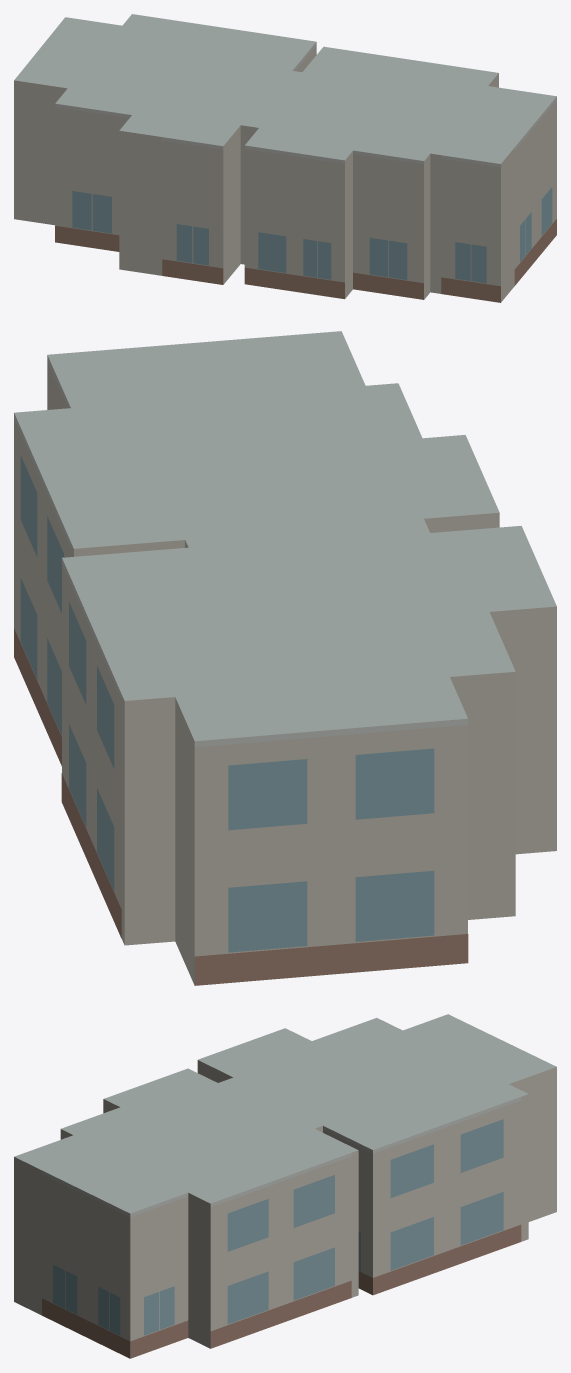
Rendered from survey-upis-32897508.glb.
3 views of the same model, one above another, from view 1: azimuth 30°, elevation 25°; view 2: azimuth 150°, elevation 25°; view 3: azimuth 270°, elevation 25° (orthographic). The views are drawn at different scales.
Visible parts, largest first — view 1: survey-upis-32897508.tmp; view 2: survey-upis-32897508.tmp; view 3: survey-upis-32897508.tmp.
Part boxes in pixels (<box>): survey-upis-32897508.tmp: <box>14,14,556,302</box>; survey-upis-32897508.tmp: <box>14,331,556,985</box>; survey-upis-32897508.tmp: <box>14,1014,556,1358</box>.
Size of the model in its own units: 28.59 by 9.7 by 32.88.
